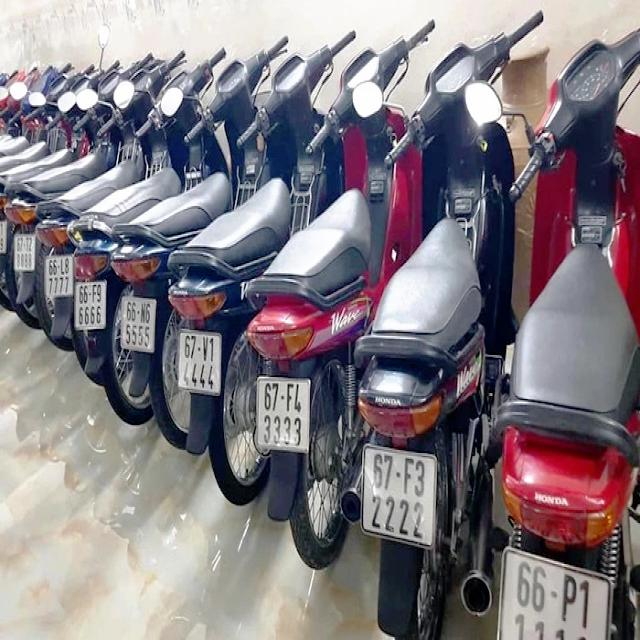license_plate: (362, 445, 438, 551), (258, 378, 310, 451), (178, 329, 221, 393), (122, 299, 158, 352), (75, 282, 108, 329), (46, 255, 75, 298), (15, 235, 36, 272)
